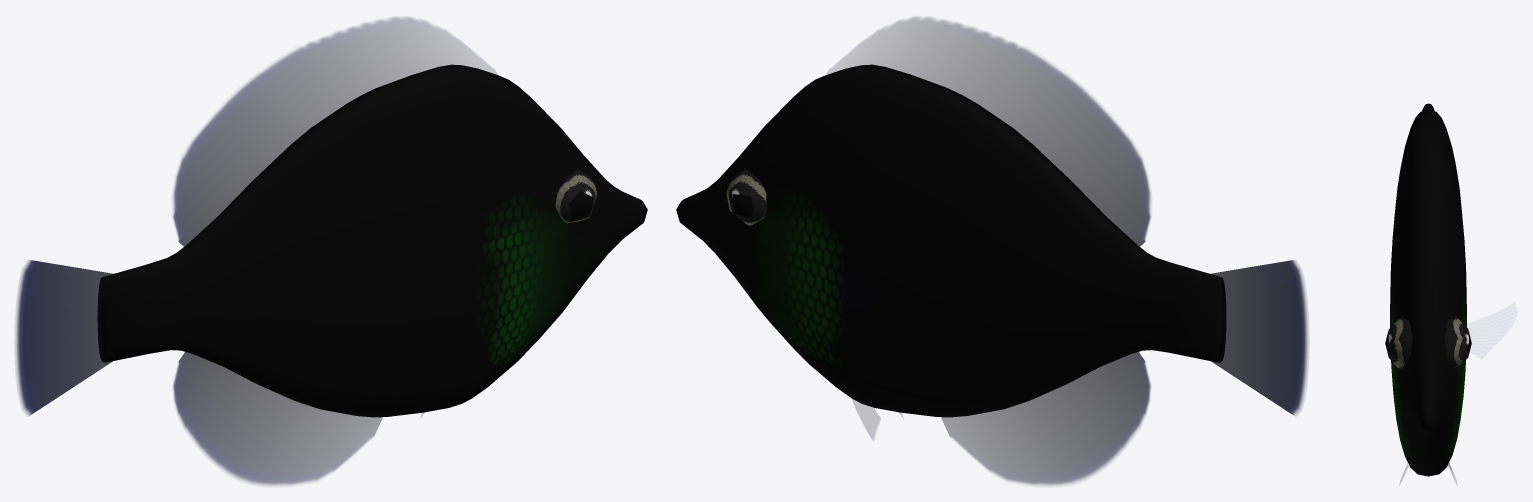
The model's file is wrought_iron_butterfly_lod1.glb.
The picture shows the model from 3 angles, left to right: view 1: azimuth 30°, elevation 25°; view 2: azimuth 150°, elevation 25°; view 3: azimuth 270°, elevation 25°; orthographic projection. The views are drawn at different scales.
Parts seen in each view (by area): view 1: Body, FinDorsal, FinAnal, FinCaudal, EyeR; view 2: Body, FinDorsal, FinAnal, FinCaudal, EyeL; view 3: Body, EyeR, EyeL.
Part boxes in pixels (x1,y1,x2,y2): Body: (97,64,647,417); FinDorsal: (173,17,497,247); FinAnal: (173,352,382,485); FinCaudal: (15,260,115,415); EyeR: (555,169,598,223); Body: (676,64,1225,417); FinDorsal: (826,17,1150,247); FinAnal: (941,352,1150,485); FinCaudal: (1208,260,1308,415); EyeL: (725,169,766,225); Body: (1390,103,1466,476); EyeR: (1385,317,1412,369); EyeL: (1444,316,1471,367).
Bounding box in the file's own units: 1 × 0.6801 × 0.2554.
Materials: 4 (3 with a texture image).
